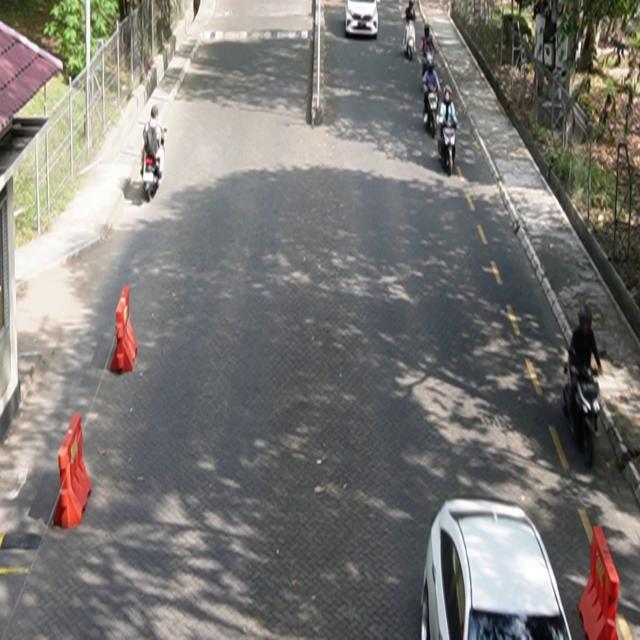car: (421, 498, 575, 640), (345, 1, 380, 40)
